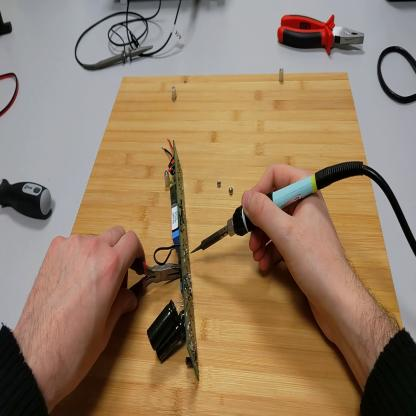hand: (20, 224, 146, 396), (243, 164, 349, 347)
high voltage board: (148, 138, 201, 381)
oscilloscope probe tip: (95, 47, 150, 71)
pliers: (277, 9, 368, 56), (129, 253, 179, 302)
screwdriver-: (2, 170, 52, 226)
welder probe tip: (191, 161, 363, 256)
working area: (54, 73, 408, 415)
